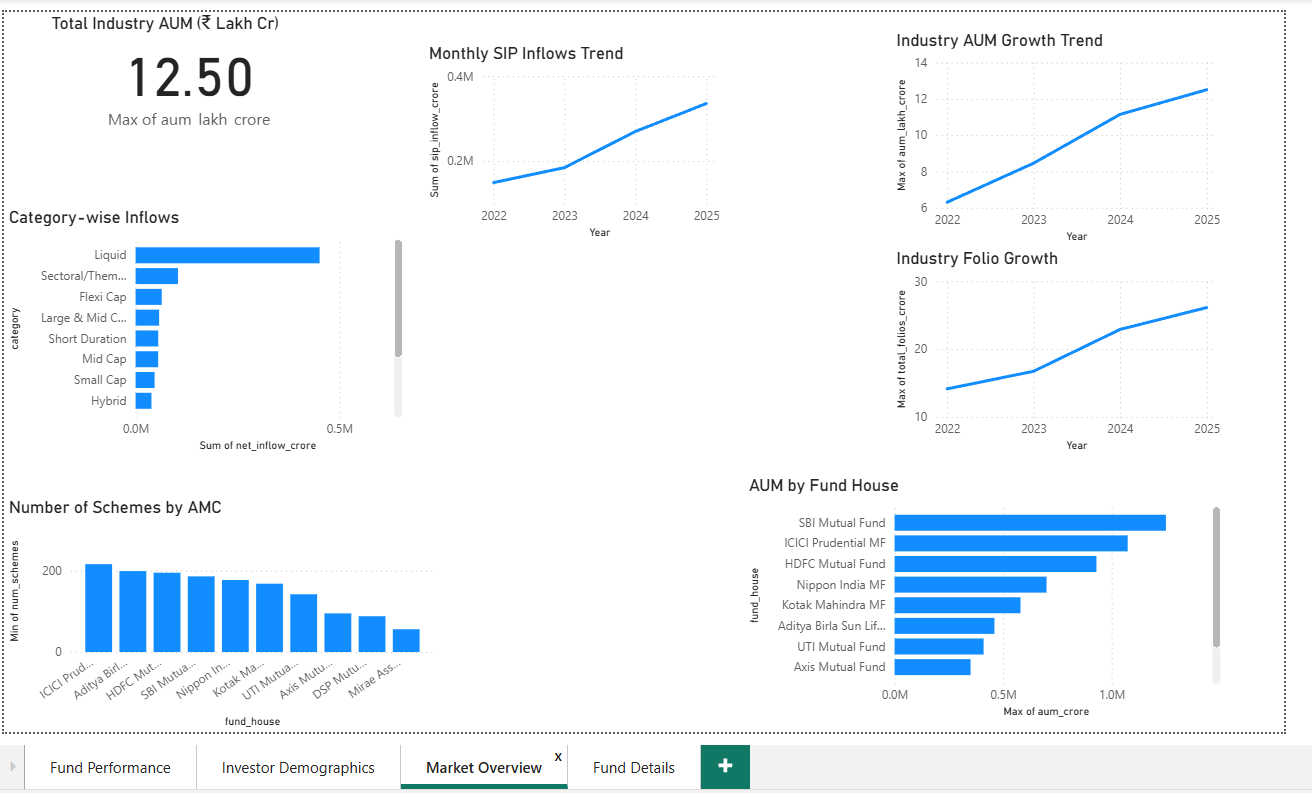

The dashboard page shown, as its layout file describes it:
{"tool":"powerbi","page":{"name":"Market Overview","canvas":[1280,720],"ordinal":2},"visuals":[{"type":"card","title":"Total Industry AUM (₹ Lakh Cr)","fields":{"Values":["Max(03_aum_by_fund_house.aum_lakh_crore)"]},"box":[42.5,0,285.4,118],"z":0},{"type":"clusteredBarChart","title":"AUM by Fund House","fields":{"Category":["03_aum_by_fund_house.fund_house"],"Y":["Max(03_aum_by_fund_house.aum_crore)"]},"box":[739.6,462.4,481.6,248.4],"z":1000},{"type":"clusteredColumnChart","title":"Number of Schemes by AMC","fields":{"Category":["03_aum_by_fund_house.fund_house"],"Y":["Min(03_aum_by_fund_house.num_schemes)"]},"box":[0,484.4,435,236],"z":2000},{"type":"lineChart","title":"Industry AUM Growth Trend","fields":{"Category":["03_aum_by_fund_house.date.Variation.Date Hierarchy.Year","03_aum_by_fund_house.date.Variation.Date Hierarchy.Quarter","03_aum_by_fund_house.date.Variation.Date Hierarchy.Month","03_aum_by_fund_house.date.Variation.Date Hierarchy.Day"],"Y":["Max(03_aum_by_fund_house.aum_lakh_crore)"]},"box":[887.8,17.8,333.4,218.2],"z":3000},{"type":"lineChart","title":"Monthly SIP Inflows Trend","fields":{"Category":["04_monthly_sip_inflows.month.Variation.Date Hierarchy.Year","04_monthly_sip_inflows.month.Variation.Date Hierarchy.Quarter","04_monthly_sip_inflows.month.Variation.Date Hierarchy.Month","04_monthly_sip_inflows.month.Variation.Date Hierarchy.Day"],"Y":["Sum(04_monthly_sip_inflows.sip_inflow_crore)"]},"box":[419.9,31.6,300.5,200.3],"z":4000},{"type":"lineChart","title":"Industry Folio Growth","fields":{"Category":["06_industry_folio_count.month.Variation.Date Hierarchy.Year","06_industry_folio_count.month.Variation.Date Hierarchy.Quarter","06_industry_folio_count.month.Variation.Date Hierarchy.Month","06_industry_folio_count.month.Variation.Date Hierarchy.Day"],"Y":["Max(06_industry_folio_count.total_folios_crore)"]},"box":[887.8,236,333.4,208.6],"z":5000},{"type":"barChart","title":"Category-wise Inflows","fields":{"Category":["05_category_inflows.category"],"Y":["Sum(05_category_inflows.net_inflow_crore)"]},"box":[0,194.9,403.4,249.7],"z":6000}]}

Visuals, with their boxes on the page's 1280x720 design canvas (x1, y1, x2, y2). These are canvas units, not pixel positions in the 1312x793 screenshot, which may show the page scaled, cropped or inside an application window:
"Total Industry AUM (₹ Lakh Cr)" card: x1=42, y1=0, x2=328, y2=118
"AUM by Fund House" clusteredBarChart: x1=740, y1=462, x2=1221, y2=711
"Number of Schemes by AMC" clusteredColumnChart: x1=0, y1=484, x2=435, y2=720
"Industry AUM Growth Trend" lineChart: x1=888, y1=18, x2=1221, y2=236
"Monthly SIP Inflows Trend" lineChart: x1=420, y1=32, x2=720, y2=232
"Industry Folio Growth" lineChart: x1=888, y1=236, x2=1221, y2=445
"Category-wise Inflows" barChart: x1=0, y1=195, x2=403, y2=445
